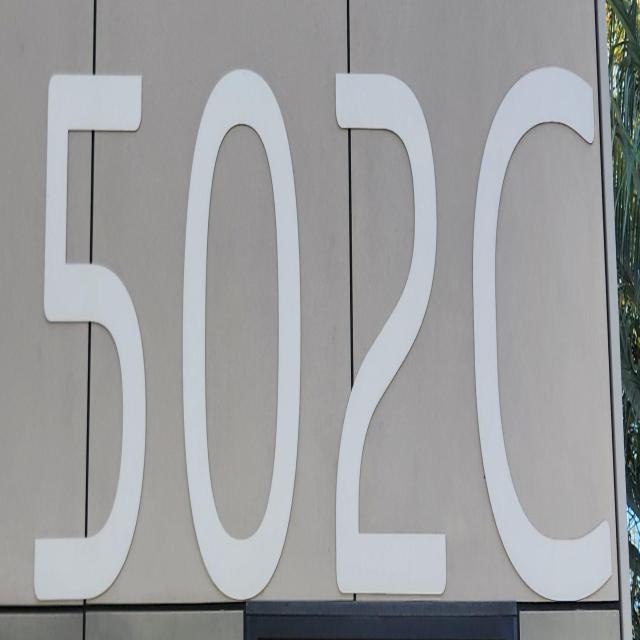character: (470, 59, 614, 609), (181, 63, 303, 608), (333, 63, 452, 603), (32, 64, 148, 606)
